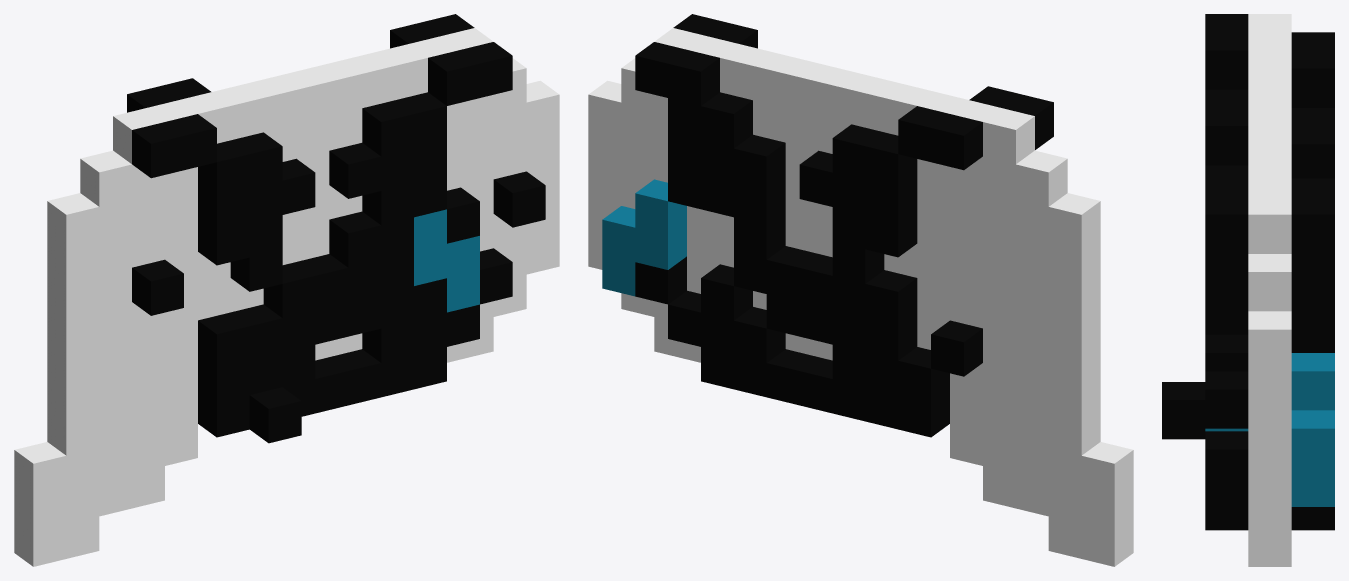
Rendered from talk icon.gltf.
The picture shows the model from 3 angles, left to right: view 1: azimuth 30°, elevation 25°; view 2: azimuth 150°, elevation 25°; view 3: azimuth 270°, elevation 25°; orthographic projection. The views are drawn at different scales.
Parts seen in each view (by area): view 1: Mood, Mad, Happy, Indifferent, upset, talk, Sadness; view 2: Mood, Mad, Happy, Indifferent, Sadness, upset; view 3: Mood, Mad, Happy, Sadness, talk, Indifferent.
Part boxes in pixels (x1,y1,x2,y2): Mood: (14,28,559,566); Mad: (127,14,512,443); Happy: (198,92,512,416); Indifferent: (198,143,413,360); upset: (198,217,446,402); talk: (132,171,545,315); Sadness: (282,100,479,386); Mood: (588,28,1133,566); Mad: (635,14,1053,437); Happy: (635,92,982,429); Indifferent: (668,132,917,325); Sadness: (602,98,883,386); upset: (701,264,917,360); Mood: (1248,14,1291,566); Mad: (1162,14,1334,439); Happy: (1205,108,1334,530); Sadness: (1205,126,1334,506); talk: (1205,334,1248,428); Indifferent: (1205,165,1334,313).
Size of the model in its own units: 16 by 12 by 4.
1 material, 1 textured.
